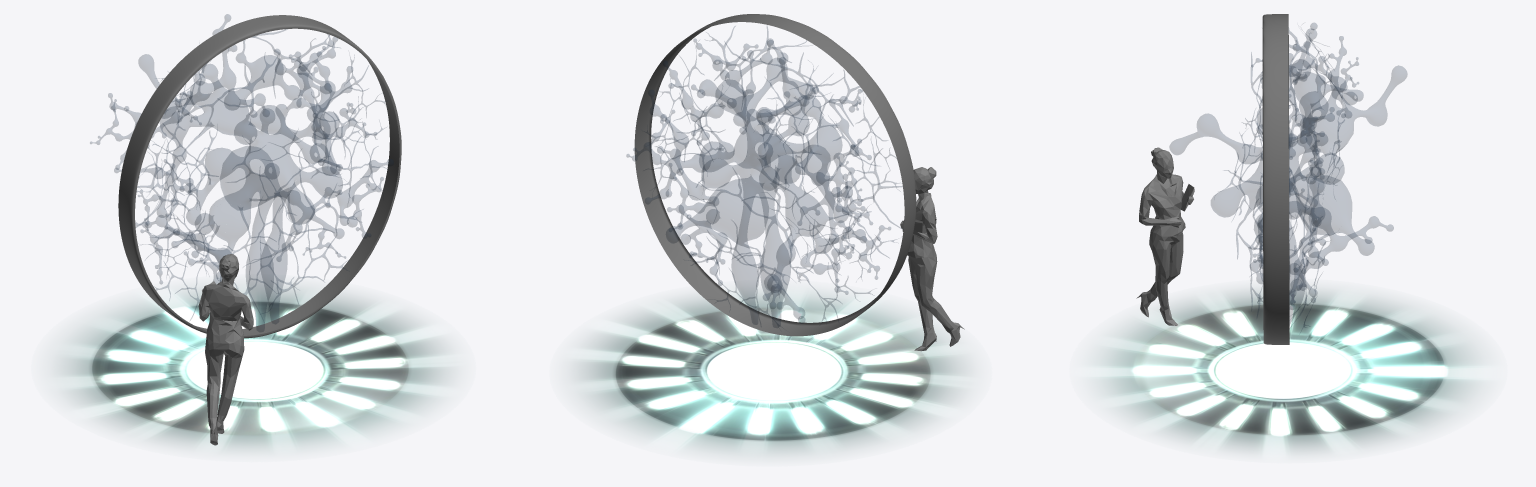
Rendered from central-brain.glb.
3 renders of one model, left to right at view 1: azimuth 30°, elevation 25°; view 2: azimuth 150°, elevation 25°; view 3: azimuth 270°, elevation 25°, orthographic.
Parts seen in each view (by area): view 1: CML_podklad_03, CML_MOZEK_01, CML_OBRUC_02, zena; view 2: CML_podklad_03, CML_MOZEK_01, CML_OBRUC_02, zena; view 3: CML_podklad_03, CML_MOZEK_01, CML_OBRUC_02, zena.
Boxes of the visible parts, x1=… form: CML_podklad_03: x1=54, y1=284, x2=455, y2=453; CML_MOZEK_01: x1=90, y1=14, x2=393, y2=331; CML_OBRUC_02: x1=118, y1=15, x2=401, y2=338; zena: x1=198, y1=254, x2=253, y2=445; CML_podklad_03: x1=572, y1=288, x2=970, y2=456; CML_MOZEK_01: x1=626, y1=26, x2=903, y2=327; CML_OBRUC_02: x1=634, y1=14, x2=916, y2=336; zena: x1=900, y1=167, x2=964, y2=351; CML_podklad_03: x1=1089, y1=288, x2=1483, y2=453; CML_MOZEK_01: x1=1169, y1=23, x2=1407, y2=328; CML_OBRUC_02: x1=1262, y1=14, x2=1289, y2=344; zena: x1=1136, y1=147, x2=1194, y2=325.
Size of the model in its own units: 4.16 by 3.29 by 4.15.
4 materials, 1 textured.
